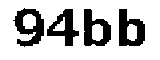4: (45, 7, 81, 50)
9: (10, 6, 45, 49)
b: (117, 7, 150, 52), (82, 6, 112, 49)
